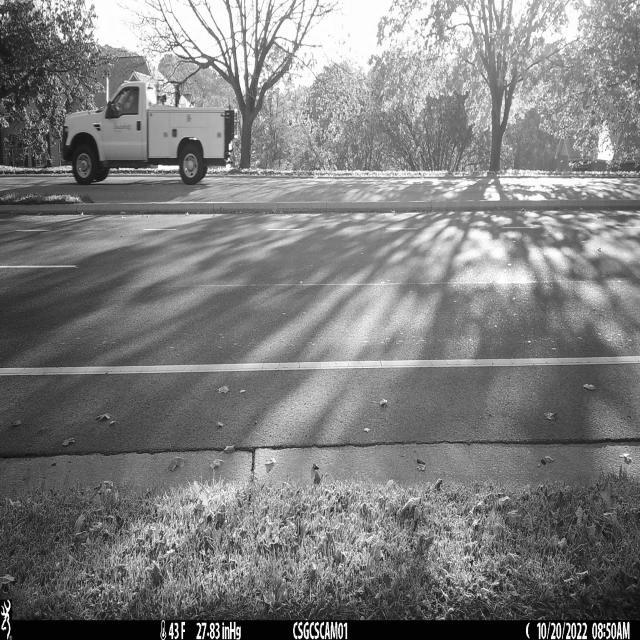Pickup- Utility: (61, 81, 234, 185)
